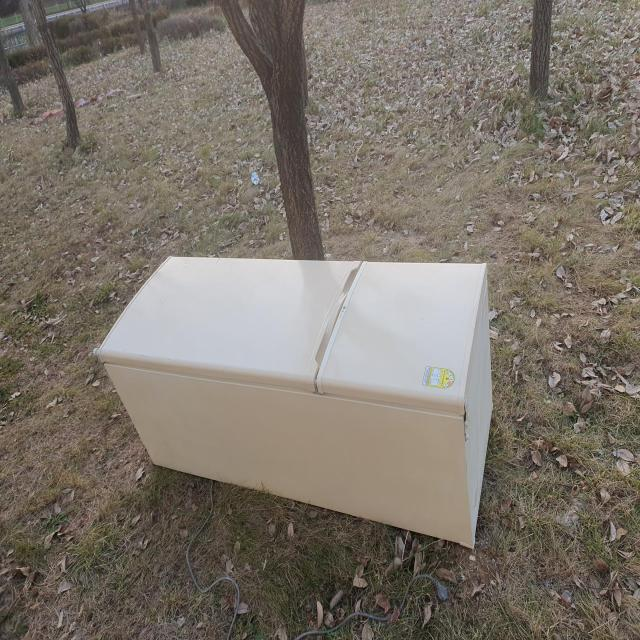refrigerator: (89, 250, 498, 558)
